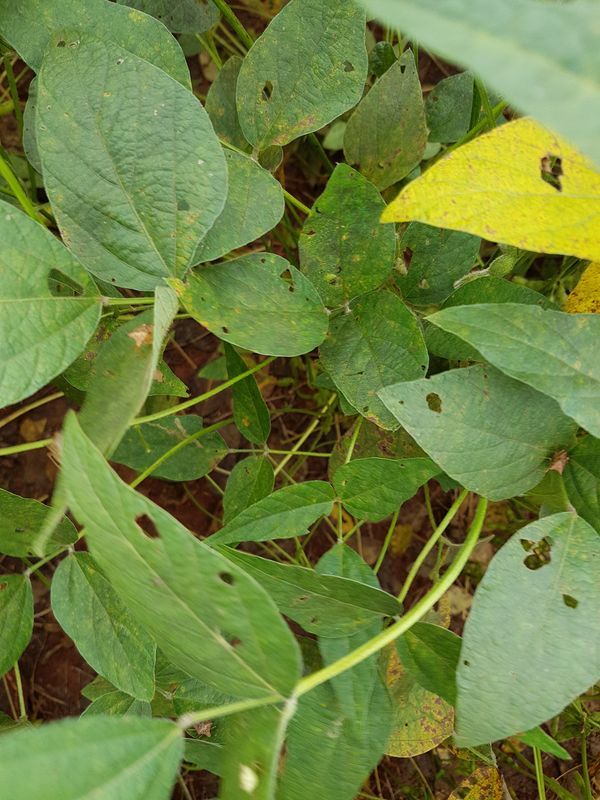Euschistus_heros_adulto: (538, 442, 574, 480), (123, 317, 160, 352), (187, 713, 219, 745)
